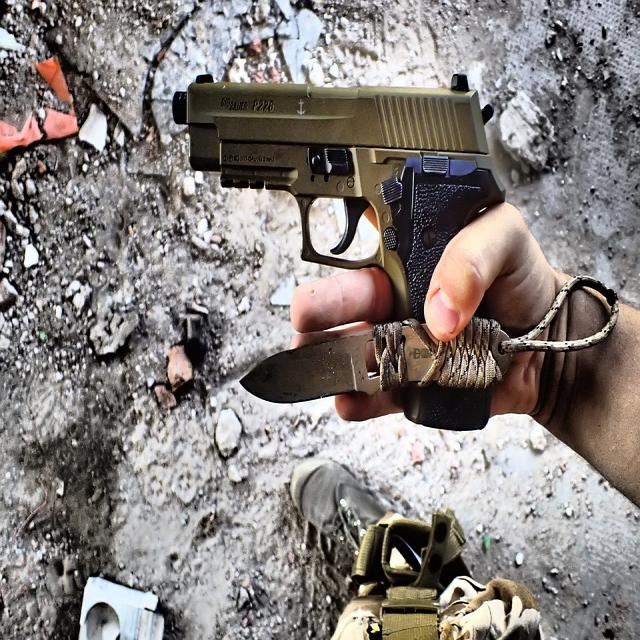gun: (175, 70, 508, 434)
